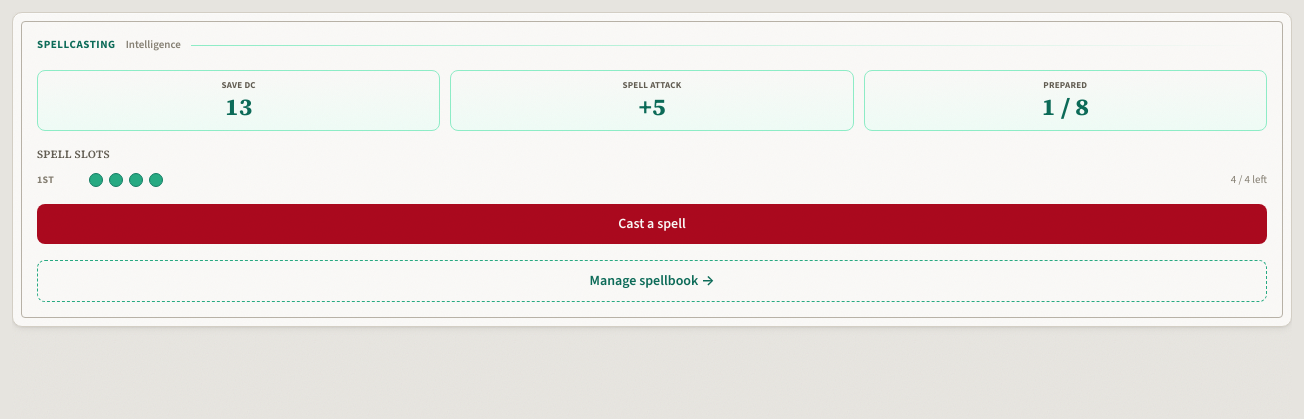
SpellsSection preparation (grimoire runes) › surfaces the server rejection text when the prepare op is refused
What coordinates should you click on to do the following:
click the button "Manage spellbook →"
I would click on:
 (652, 281)
Its box is [37,260,1267,302].
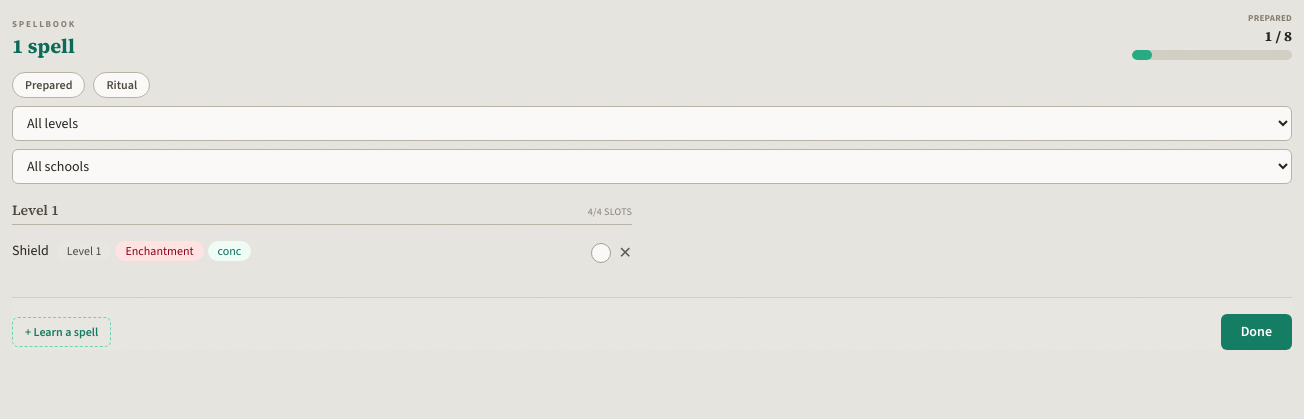
What coordinates should you click on to do the following:
click the button named "Prepare Shield"
I would click on:
 (601, 252)
Its box is [591,242,611,262].
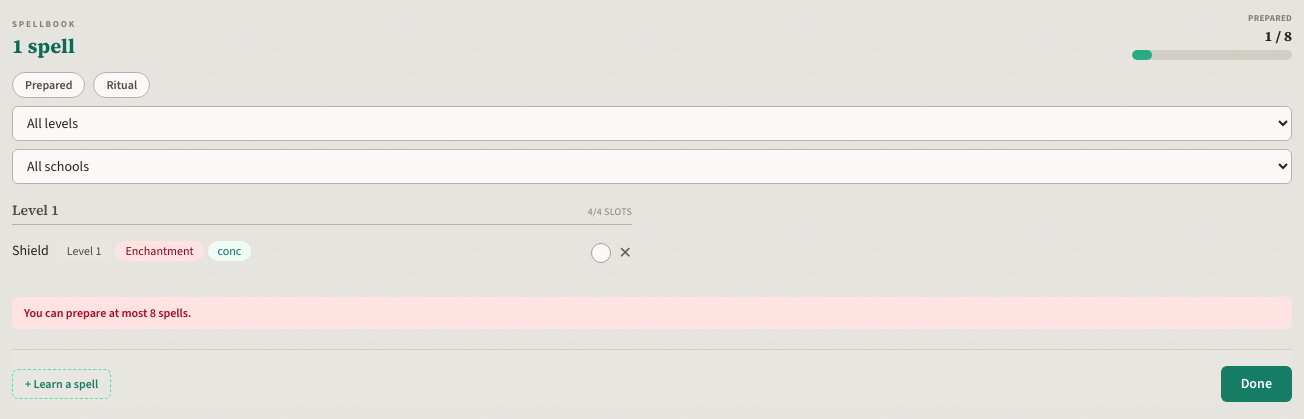
Expected: the text "You can prepare at most 8 spells." is shown, [12,296,1292,328]
